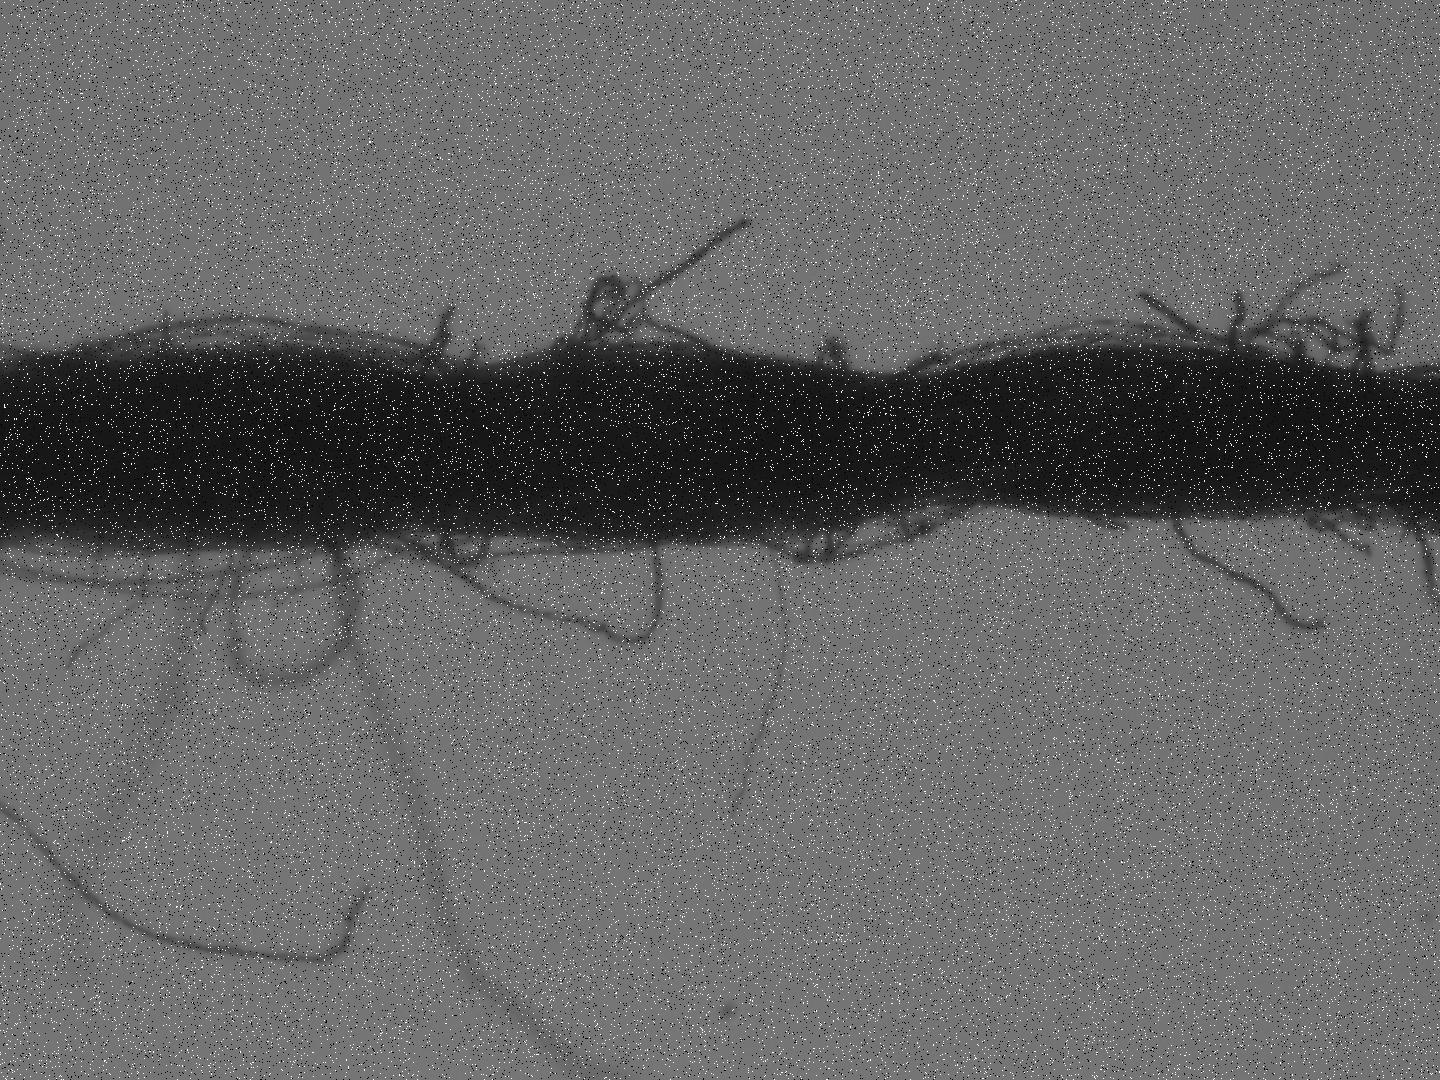loop_fiber: (376, 524, 662, 646), (66, 315, 459, 376), (229, 542, 357, 684), (752, 501, 971, 569), (540, 276, 714, 351), (897, 337, 1152, 376), (1233, 330, 1311, 361), (435, 523, 491, 565), (806, 336, 853, 370)
protruding_fiber: (1168, 508, 1330, 642), (584, 214, 748, 345), (725, 542, 790, 827), (1138, 293, 1217, 343), (1223, 289, 1248, 346)
